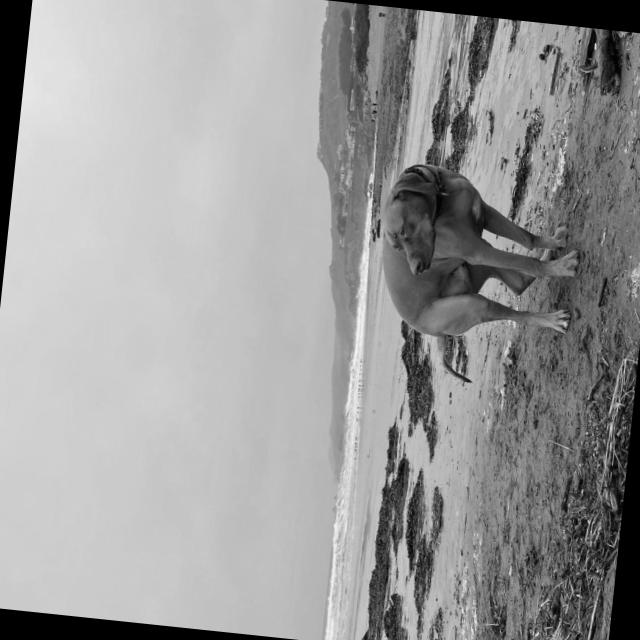squatting: (362, 156, 590, 396)
